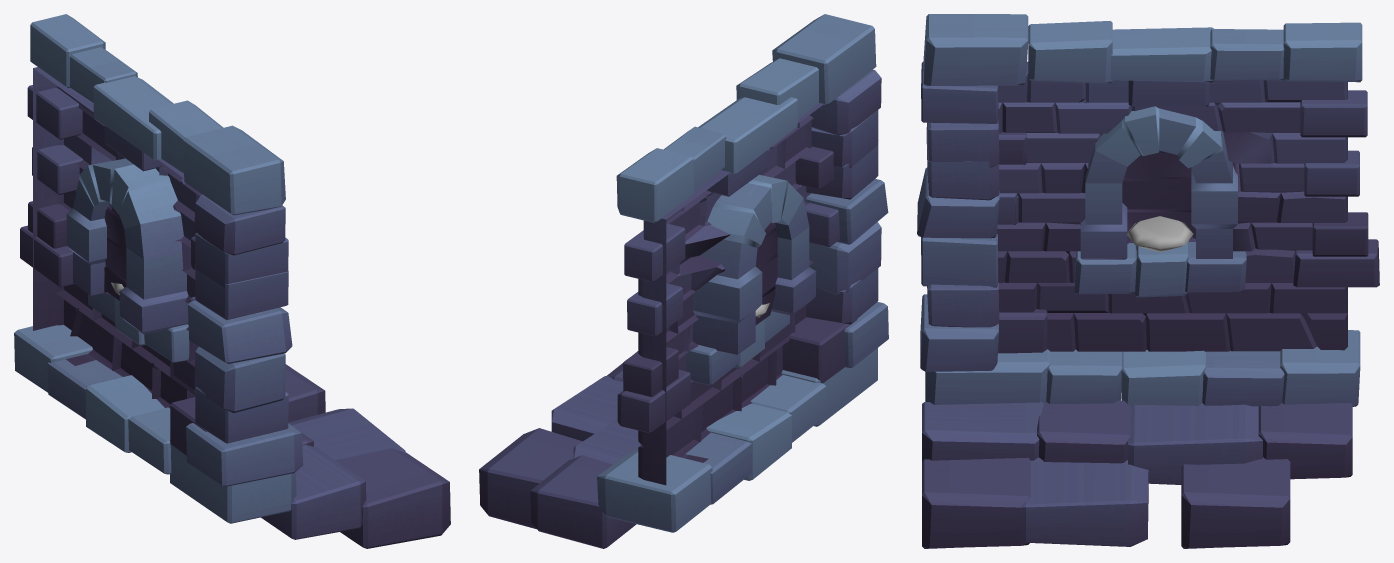
Rendered from WallSetup2.fbx.
The picture shows the model from 3 angles, left to right: view 1: azimuth 30°, elevation 25°; view 2: azimuth 150°, elevation 25°; view 3: azimuth 270°, elevation 25°; orthographic projection. The views are drawn at different scales.
Parts seen in each view (by area): view 1: pCube472; view 2: pCube472; view 3: pCube472.
Part boxes in pixels (bbox=[...]): pCube472: bbox=[14, 14, 450, 548]; pCube472: bbox=[479, 14, 888, 548]; pCube472: bbox=[917, 14, 1379, 548].
Size of the model in its own units: 4.24 by 7.06 by 6.88.
